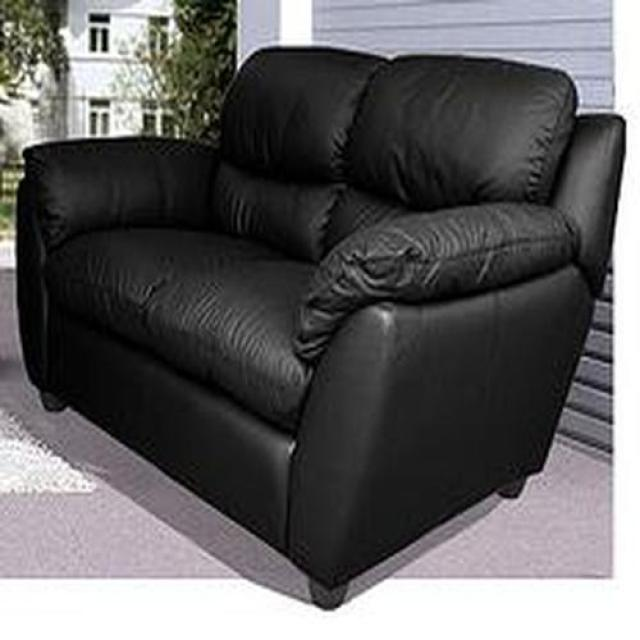sofa: (17, 46, 626, 608)
